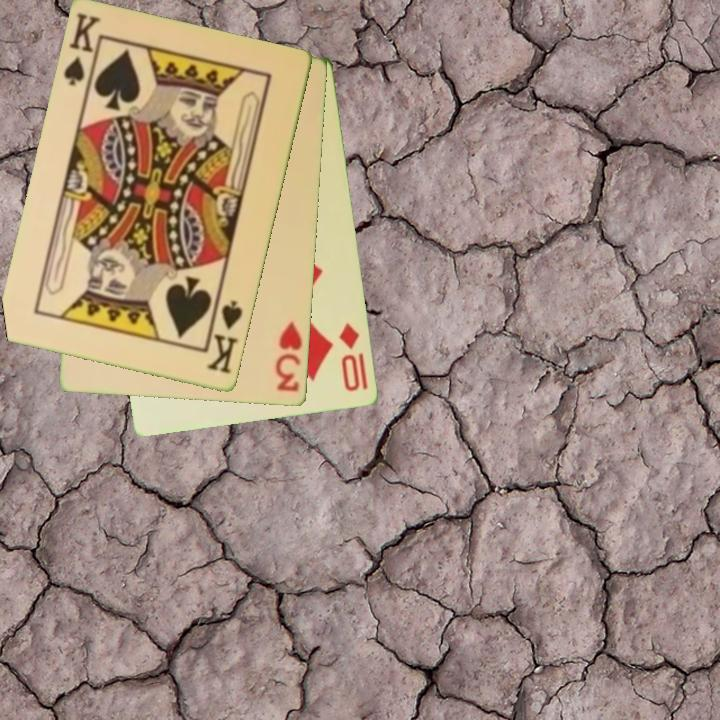10d: (336, 320, 371, 395)
3h: (272, 319, 306, 395)
Ks: (60, 10, 104, 96), (203, 295, 246, 377)
